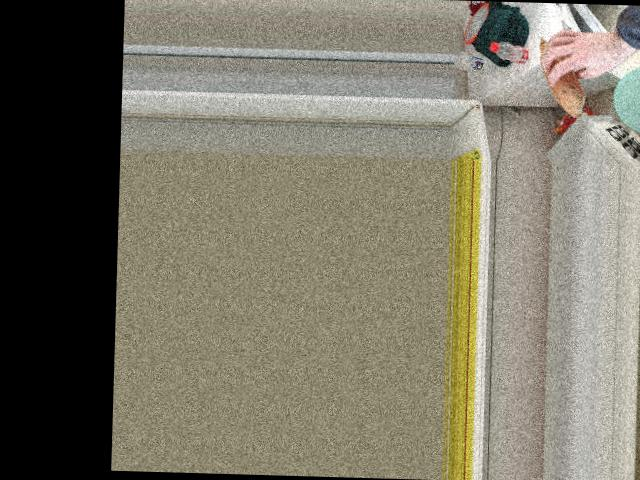sweet_potato: (537, 33, 586, 114)
